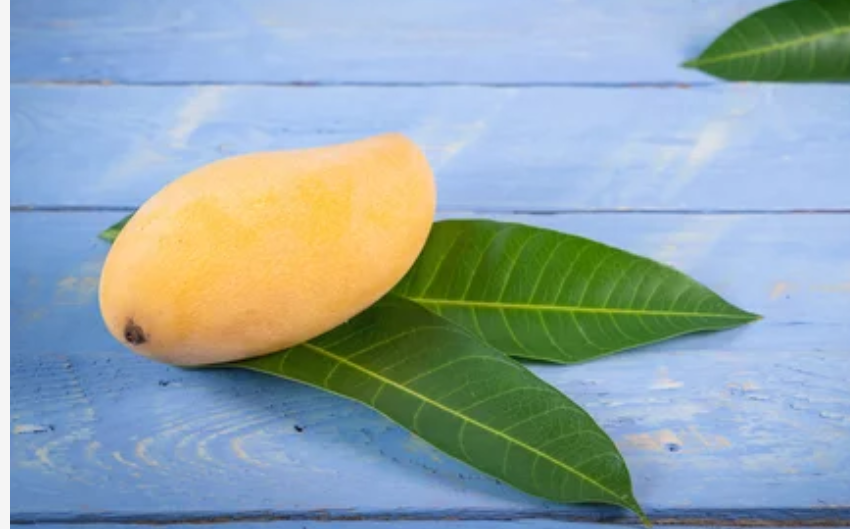mango: (100, 131, 438, 364)
